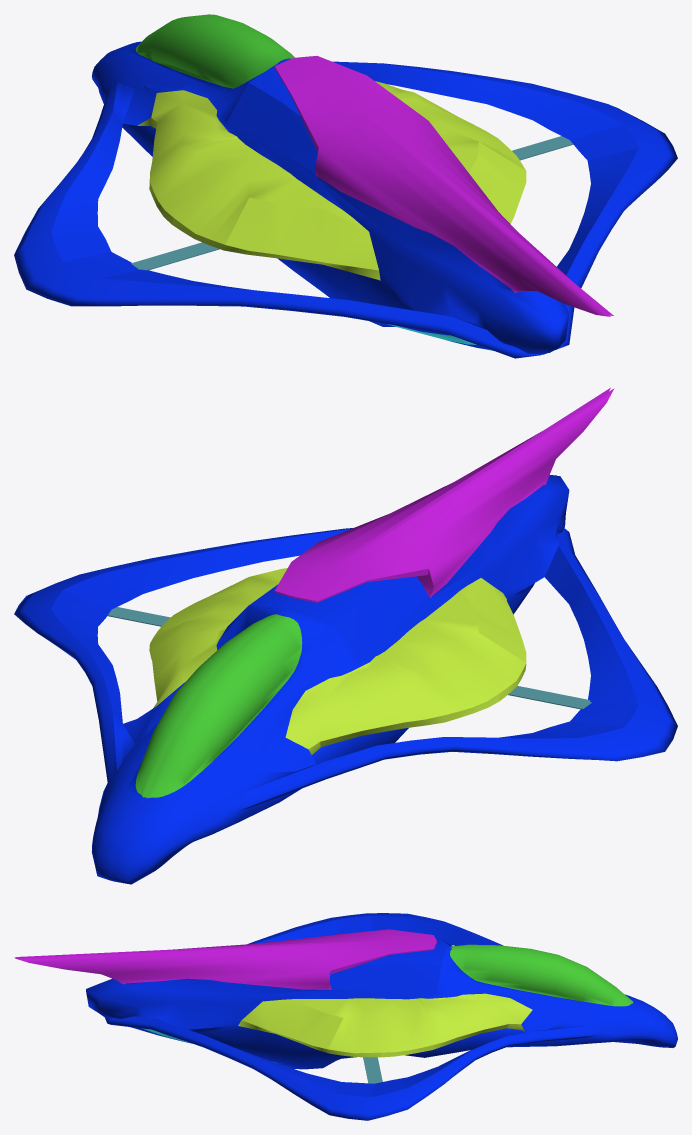
File: Enemy Recon With Spinning center.FBX
3 views of the same model, one above another, from view 1: azimuth 30°, elevation 25°; view 2: azimuth 150°, elevation 25°; view 3: azimuth 270°, elevation 25° (orthographic). The views are drawn at different scales.
Parts seen in each view (by area): view 1: Box001, Box002; view 2: Box001, Box002; view 3: Box001, Box002.
Part boxes in pixels (bbox=[...]): Box001: bbox=[14, 14, 677, 358]; Box002: bbox=[131, 136, 573, 270]; Box001: bbox=[14, 387, 677, 884]; Box002: bbox=[107, 607, 591, 709]; Box001: bbox=[14, 913, 677, 1120]; Box002: bbox=[363, 1057, 382, 1083].
Bounding box in the file's own units: 46.71 × 12.94 × 63.48.
